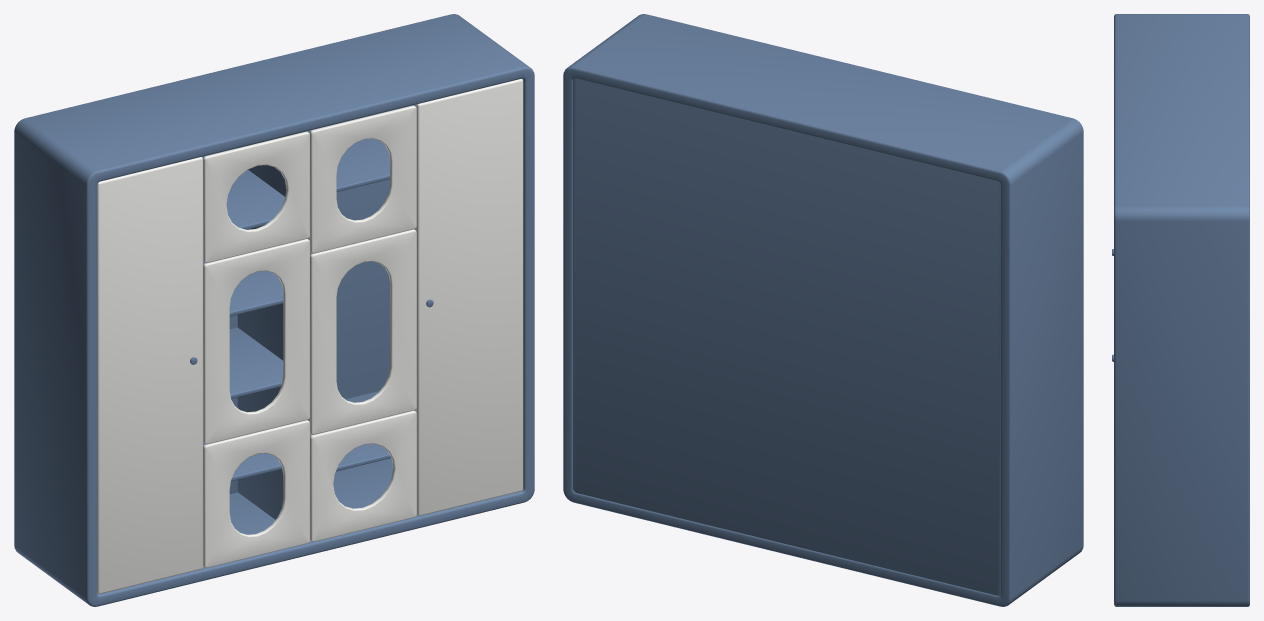
Rendered from guarda_roupa_portas_vazadas_azul.glb.
The picture shows the model from 3 angles, left to right: view 1: azimuth 30°, elevation 25°; view 2: azimuth 150°, elevation 25°; view 3: azimuth 270°, elevation 25°; orthographic projection. The views are drawn at different scales.
Visible parts, largest first — view 1: guarda_roupa_portas_vazadas_azul, porta_4, porta_1, porta_3, porta_2; view 2: guarda_roupa_portas_vazadas_azul; view 3: guarda_roupa_portas_vazadas_azul.
Boxes of the visible parts, bbox=[...] form: guarda_roupa_portas_vazadas_azul: bbox=[14, 14, 534, 606]; porta_4: bbox=[416, 79, 523, 515]; porta_1: bbox=[97, 157, 202, 594]; porta_3: bbox=[309, 105, 416, 541]; porta_2: bbox=[203, 131, 309, 567]; guarda_roupa_portas_vazadas_azul: bbox=[563, 14, 1083, 606]; guarda_roupa_portas_vazadas_azul: bbox=[1114, 14, 1249, 606].
Bounding box in the file's own units: 2.1 × 1.95 × 0.609.
Materials: 1 (1 with a texture image).
